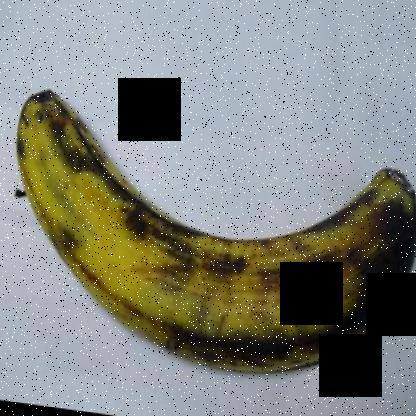overripe: (0, 79, 415, 402)
